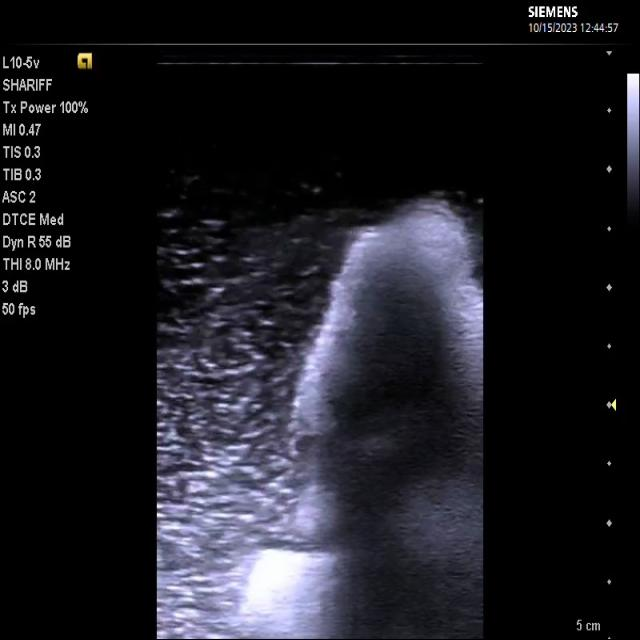tissue: (238, 194, 484, 639)
